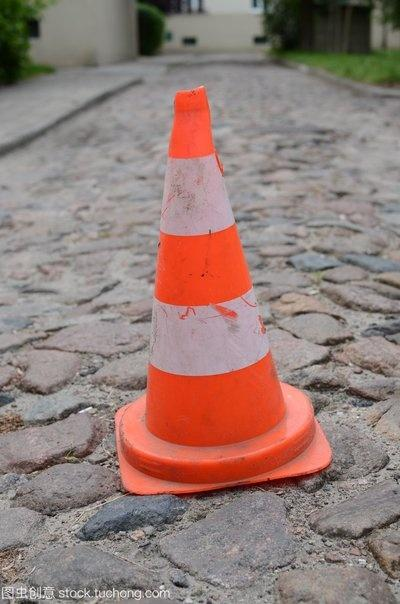cone_barrel: (121, 85, 305, 468)
